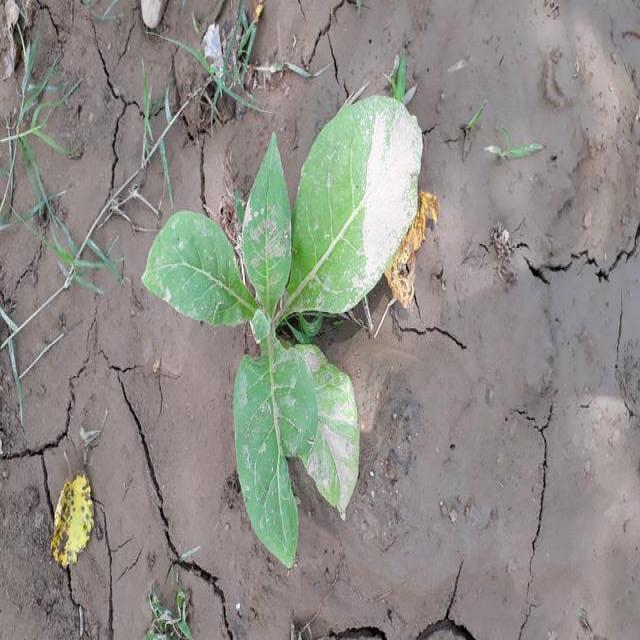crop: (151, 102, 416, 571)
